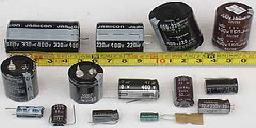Electrolytic Capacitor: (4, 17, 89, 57), (149, 1, 207, 55), (213, 1, 254, 51), (1, 54, 44, 101), (93, 19, 147, 55), (64, 59, 108, 103), (116, 78, 162, 102), (47, 104, 83, 127), (4, 104, 45, 124), (205, 77, 245, 97), (198, 96, 239, 115), (171, 73, 195, 104), (162, 112, 212, 126), (90, 110, 123, 127), (141, 110, 161, 125)
